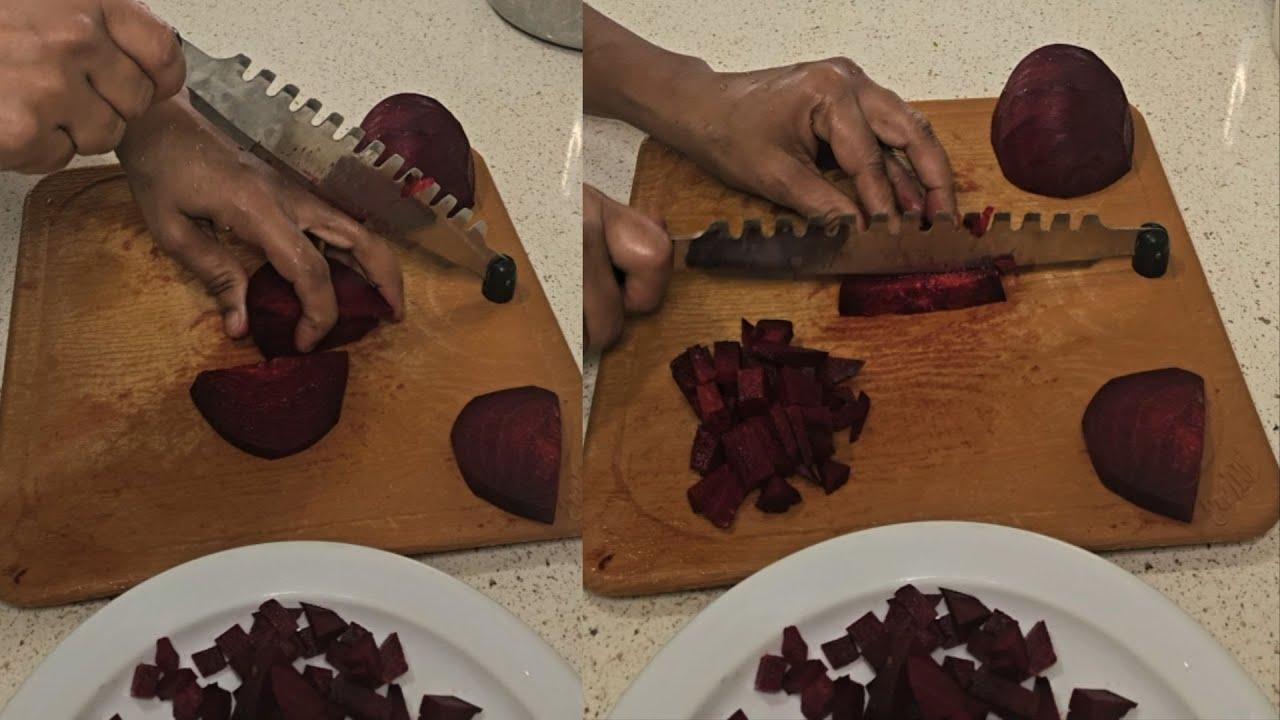beetroot: (1027, 336, 1280, 552), (241, 266, 391, 465), (983, 50, 1149, 193)
